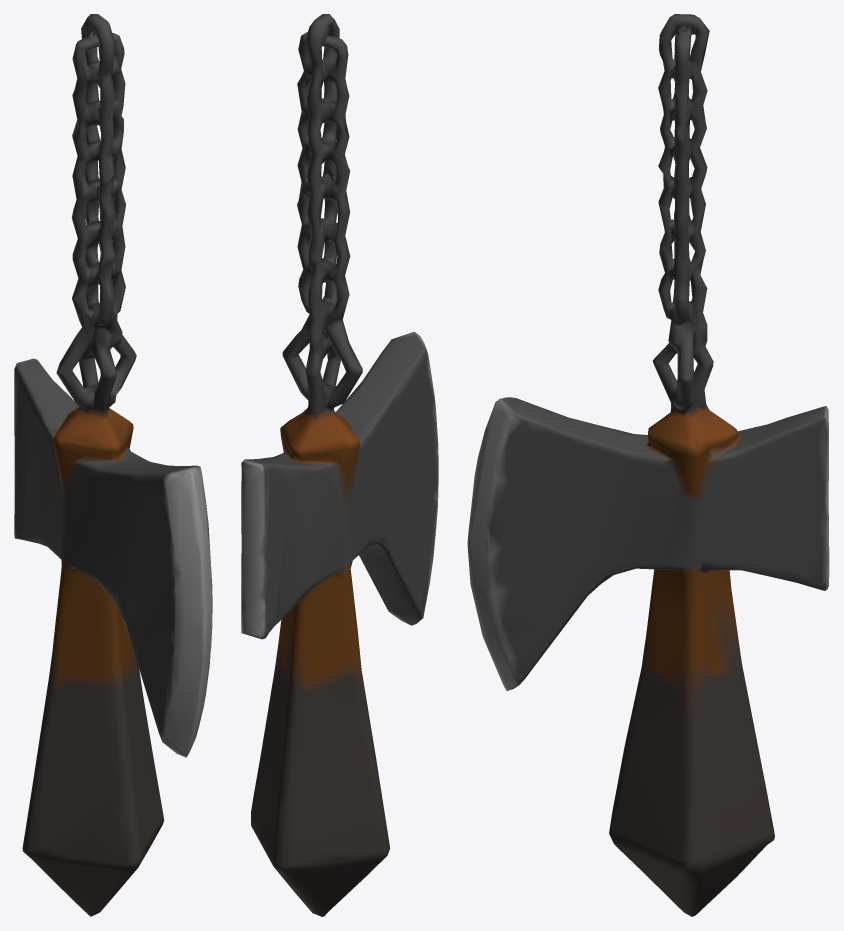
Rendered from gen3d-swinging-axe-lod0.glb.
The picture shows the model from 3 angles, left to right: view 1: azimuth 30°, elevation 25°; view 2: azimuth 150°, elevation 25°; view 3: azimuth 270°, elevation 25°; orthographic projection.
Visible parts, largest first — view 1: part_0; view 2: part_0; view 3: part_0.
Part boxes in pixels (box(x1,y1,x2,y2)): part_0: box(14, 14, 212, 916); part_0: box(241, 14, 438, 916); part_0: box(467, 14, 829, 916).
Bounding box in the file's own units: 0.1579 × 0.9983 × 0.3634.
